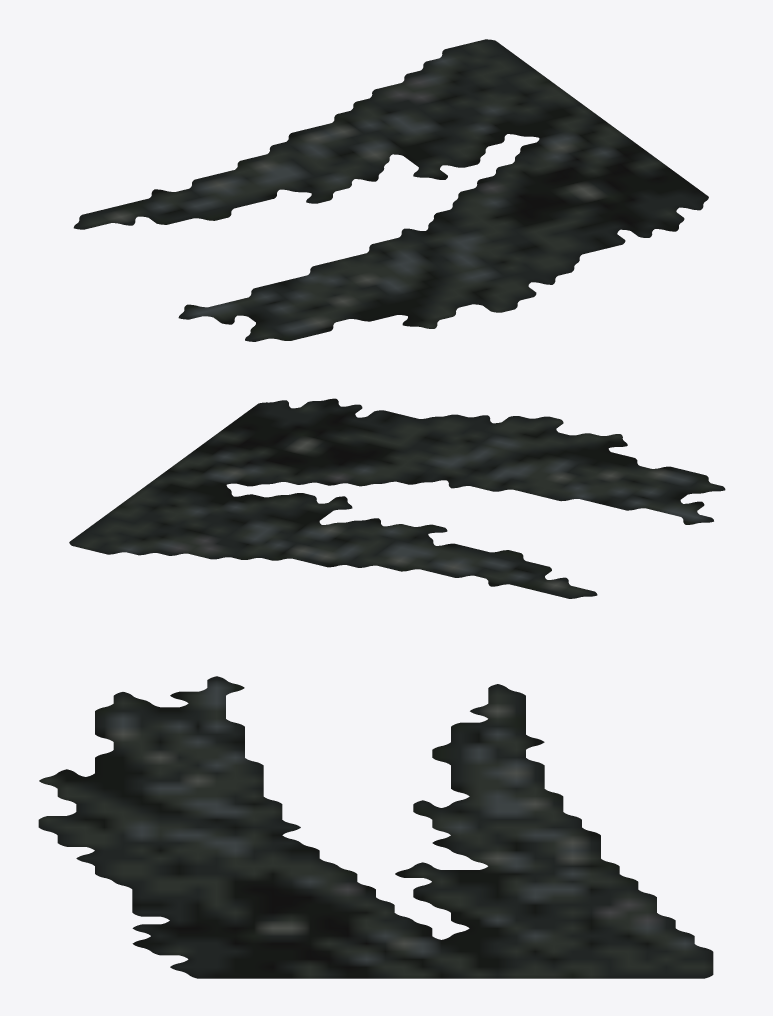
Rendered from SM_EC_Tree_Part_Card_05.fbx.
3 views of the same model, one above another, from view 1: azimuth 30°, elevation 25°; view 2: azimuth 150°, elevation 25°; view 3: azimuth 270°, elevation 25° (orthographic). The views are drawn at different scales.
Parts seen in each view (by area): view 1: SM_EC_Tree_Part_Card_05; view 2: SM_EC_Tree_Part_Card_05; view 3: SM_EC_Tree_Part_Card_05.
Part boxes in pixels (x1,y1,x2,y2): SM_EC_Tree_Part_Card_05: (73,39,708,341); SM_EC_Tree_Part_Card_05: (69,398,725,598); SM_EC_Tree_Part_Card_05: (38,676,713,978).
Bounding box in the file's own units: 0.7085 × 0.6213 × 3.46e-10.
